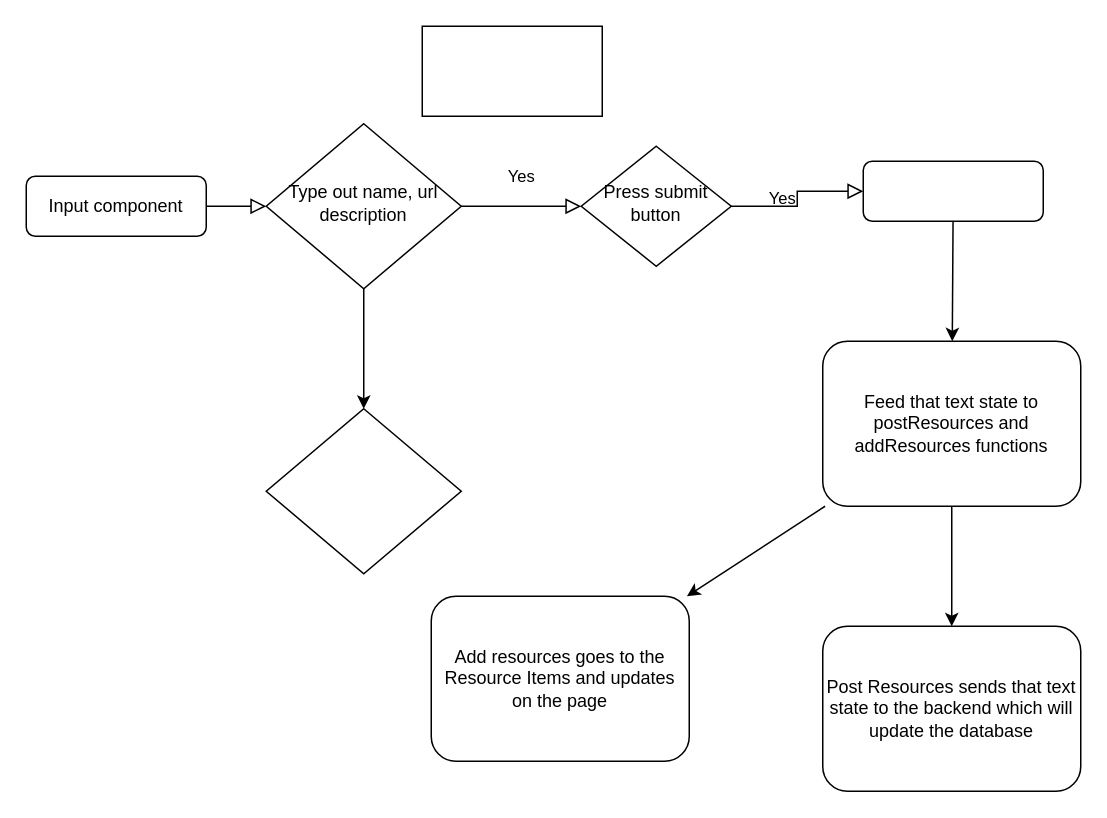
The diagram is 1107 pixels wide and 818 high, and some of its shapes have lost their labels. The centre of each missing label's shape, as x and y in pixels:
"As you type state updates" belongs at [363,490].
"Calls onClick button" belongs at [952,190].
"Front-End" belongs at [511,70].
